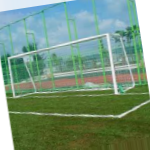goals: (6, 31, 137, 100)
